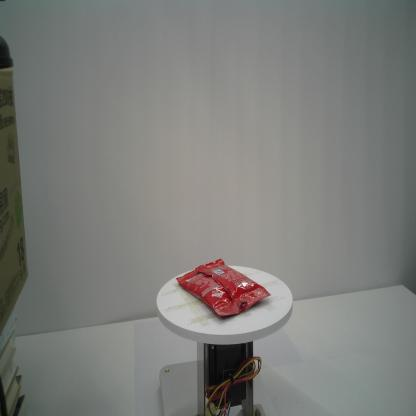Instant Drink: (175, 256, 273, 320)
